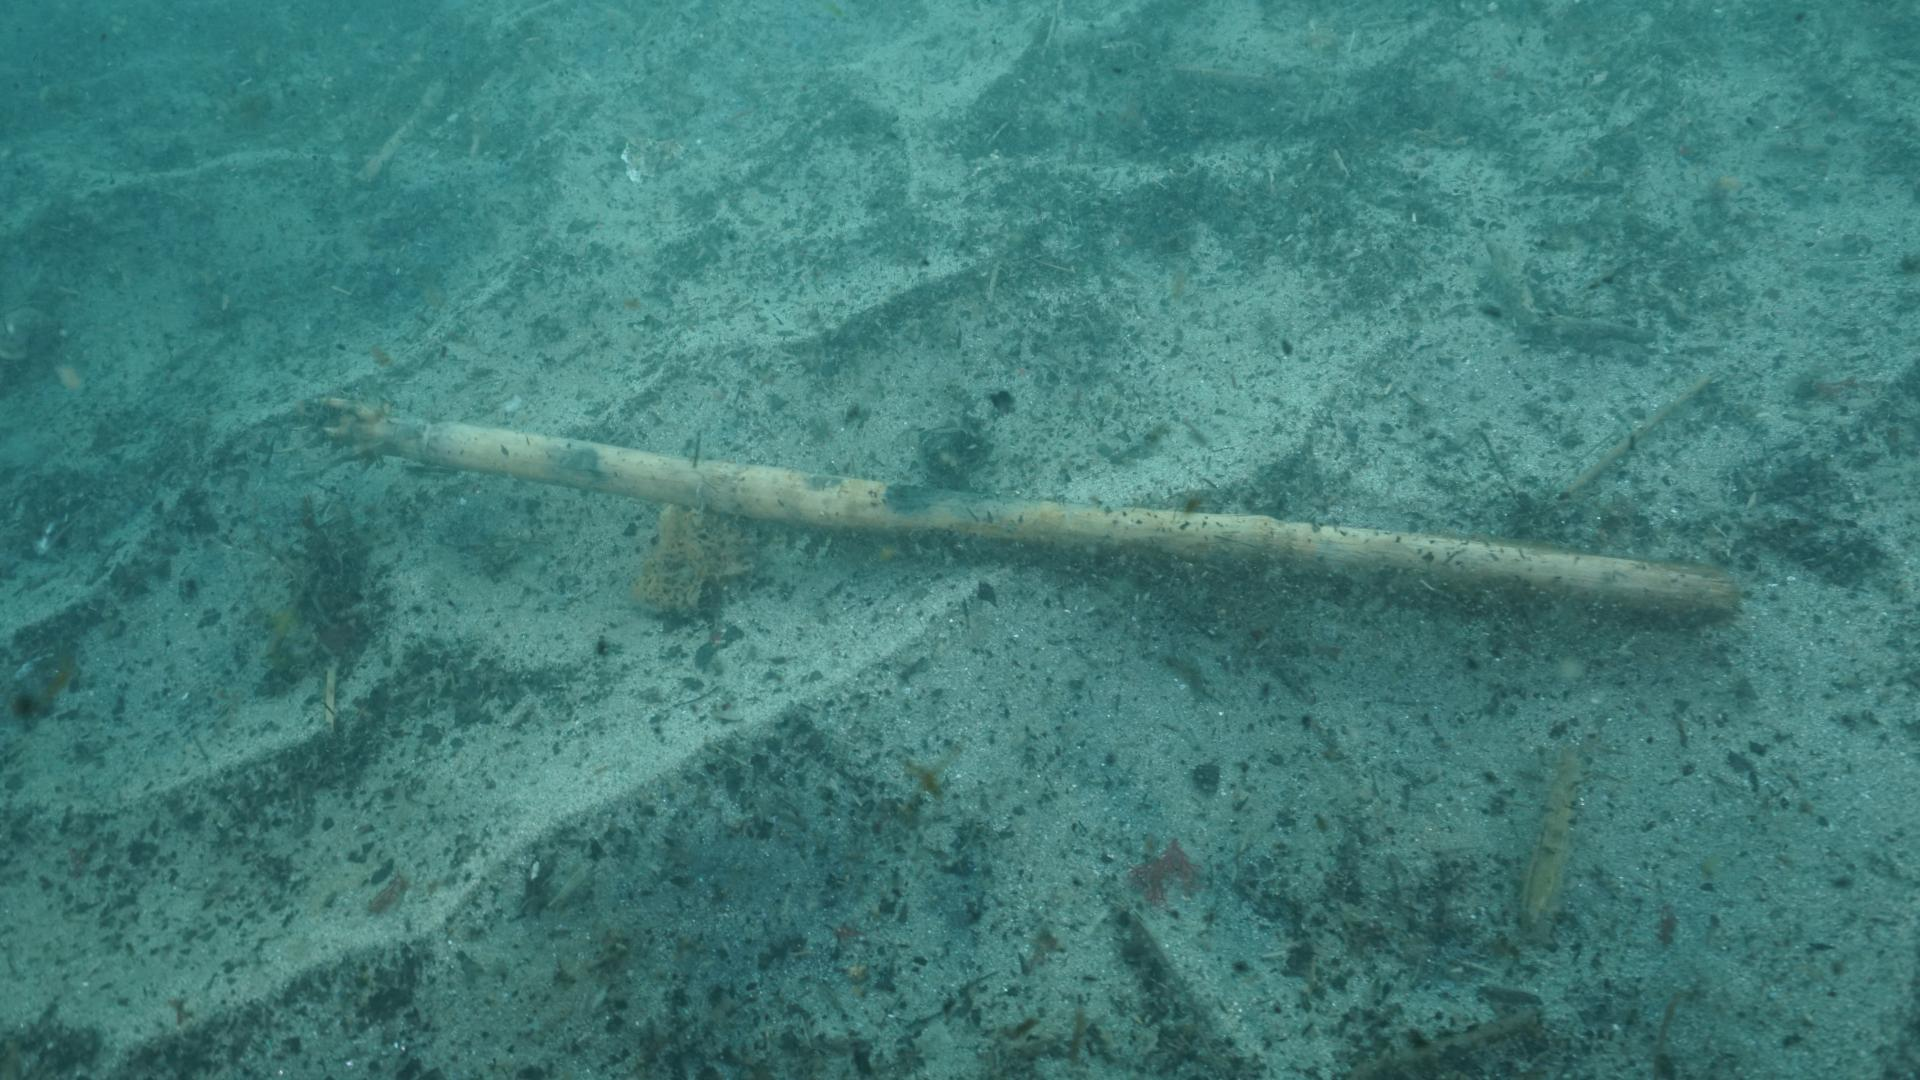wood: (295, 394, 1746, 634)
